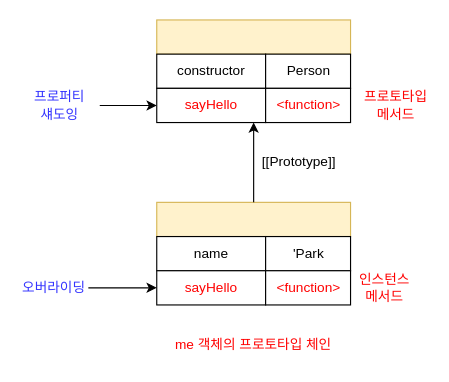
The diagram is 449 pixels wide and 382 high, and some of its shapes have lost their labels. The box of each missing label's shape, as (x1, y1, x2, y2) in pixels:
me: (156, 201, 351, 237)
Person.prototype: (156, 19, 351, 54)
